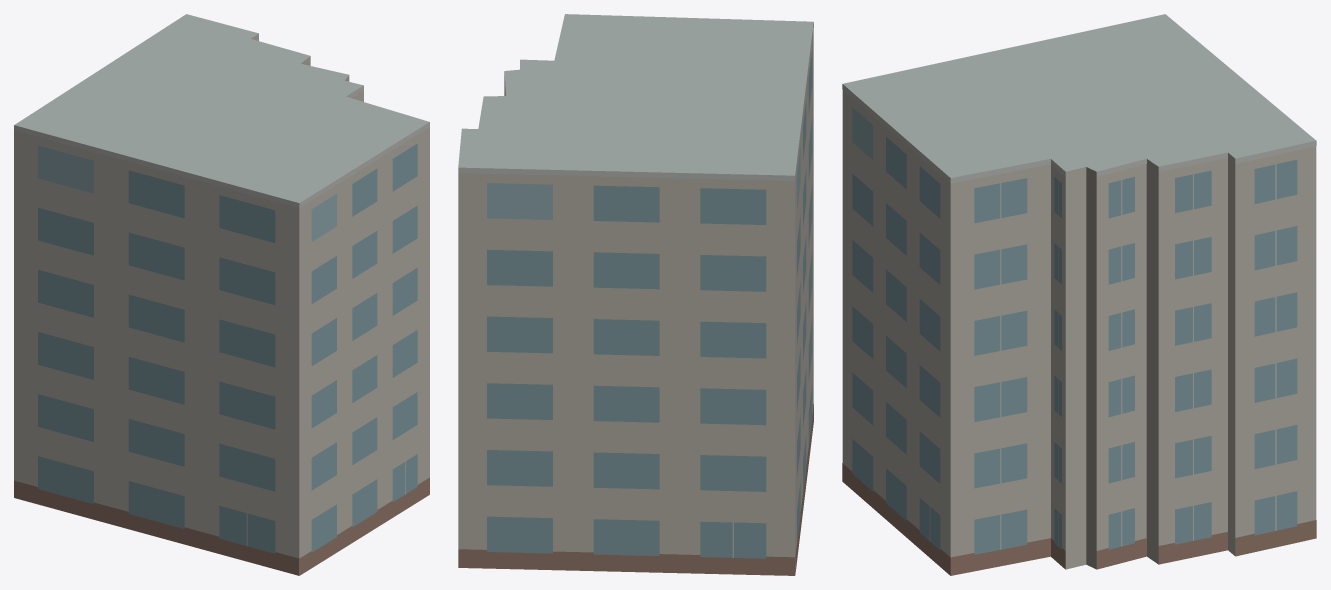
The model's file is survey-upis-32970272.glb.
3 views of the same model, side by side, from view 1: azimuth 30°, elevation 25°; view 2: azimuth 150°, elevation 25°; view 3: azimuth 270°, elevation 25° (orthographic). The views are drawn at different scales.
Parts seen in each view (by area): view 1: survey-upis-32970272.tmp; view 2: survey-upis-32970272.tmp; view 3: survey-upis-32970272.tmp.
Boxes of the visible parts, x1,y1,x2,y2 form: survey-upis-32970272.tmp: (14, 14, 429, 575); survey-upis-32970272.tmp: (458, 14, 813, 575); survey-upis-32970272.tmp: (842, 14, 1316, 575).
Size of the model in its own units: 15.85 by 17.9 by 19.34.
